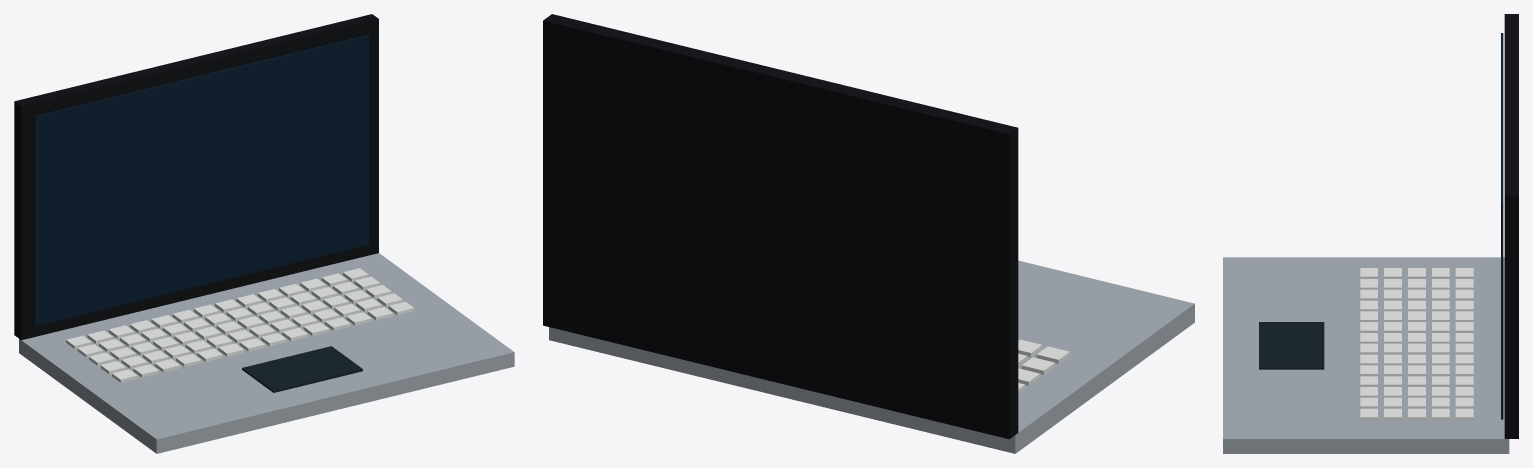
The model's file is Laptop_nyitott.obj.
The picture shows the model from 3 angles, left to right: view 1: azimuth 30°, elevation 25°; view 2: azimuth 150°, elevation 25°; view 3: azimuth 270°, elevation 25°; orthographic projection. The views are drawn at different scales.
Bounding box in the file's own units: 0.36 × 0.239 × 0.248.
